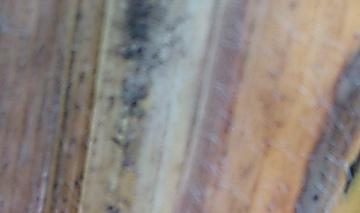tarspot: (344, 149, 360, 194), (130, 99, 139, 108), (312, 193, 319, 202), (107, 203, 114, 211), (137, 45, 143, 54), (74, 180, 80, 187)
